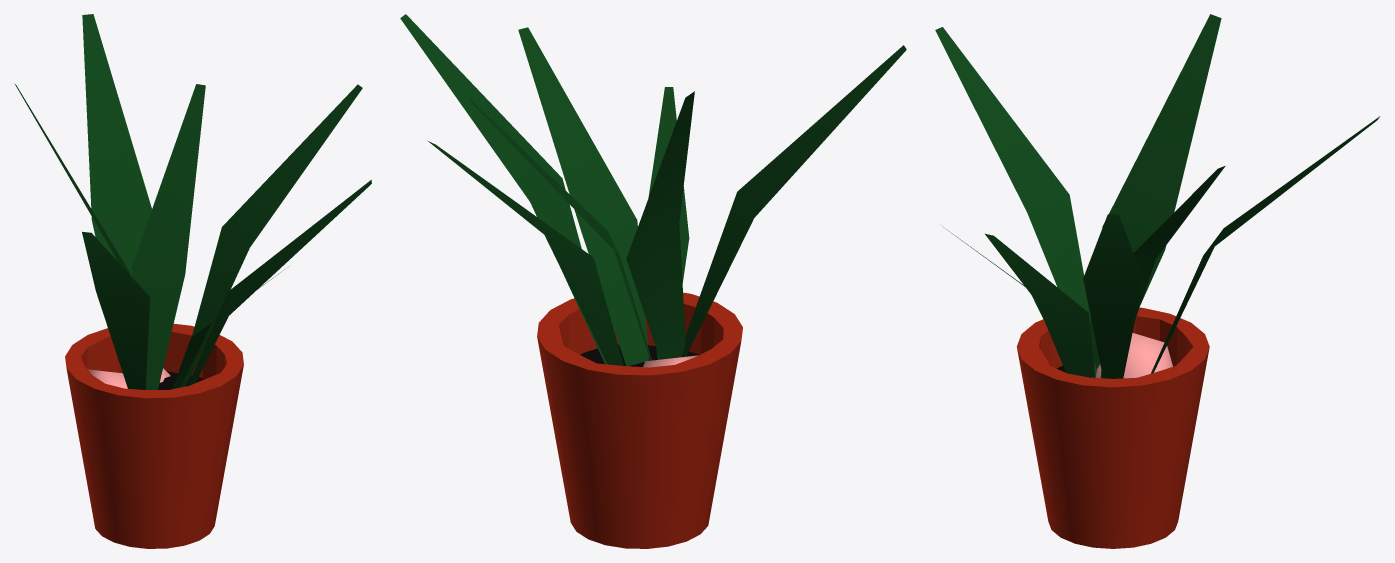
File: WideLeaf_Plant_RA.obj
3 views of the same model, side by side, from view 1: azimuth 30°, elevation 25°; view 2: azimuth 150°, elevation 25°; view 3: azimuth 270°, elevation 25° (orthographic). The views are drawn at different scales.
Visible parts, largest first — view 1: WideLeaf_Plant_RA:pCylinder1 polySurface19, WideLeaf_Plant_RA:group5 WideLeaf_Plant_RA:pasted__group1 WideLe, WideLeaf_Plant_RA:group WideLeaf_Plant_RA:pasted__pPlane1 polySu, WideLeaf_Plant_RA:pPlane1 polySurface19, WideLeaf_Plant_RA:group1 WideLeaf_Plant_RA:pasted__pPlane1 polyS, WideLeaf_Plant_RA:group3 WideLeaf_Plant_RA:pasted__pPlane1 polyS, WideLeaf_Plant_RA:group2 WideLeaf_Plant_RA:pasted__pPlane1 polyS, WideLeaf_Plant_RA:group4 WideLeaf_Plant_RA:pasted__group WideLea, WideLeaf_Plant_RA:initialShadingGroup WideLeaf_Plant_RA:pCube2 p; view 2: WideLeaf_Plant_RA:pCylinder1 polySurface19, WideLeaf_Plant_RA:group3 WideLeaf_Plant_RA:pasted__pPlane1 polyS, WideLeaf_Plant_RA:group4 WideLeaf_Plant_RA:pasted__group WideLea, WideLeaf_Plant_RA:group1 WideLeaf_Plant_RA:pasted__pPlane1 polyS, WideLeaf_Plant_RA:pPlane1 polySurface19, WideLeaf_Plant_RA:group WideLeaf_Plant_RA:pasted__pPlane1 polySu, WideLeaf_Plant_RA:group2 WideLeaf_Plant_RA:pasted__pPlane1 polyS, WideLeaf_Plant_RA:group5 WideLeaf_Plant_RA:pasted__group1 WideLe; view 3: WideLeaf_Plant_RA:pCylinder1 polySurface19, WideLeaf_Plant_RA:group4 WideLeaf_Plant_RA:pasted__group WideLea, WideLeaf_Plant_RA:group1 WideLeaf_Plant_RA:pasted__pPlane1 polyS, WideLeaf_Plant_RA:pPlane1 polySurface19, WideLeaf_Plant_RA:group3 WideLeaf_Plant_RA:pasted__pPlane1 polyS, WideLeaf_Plant_RA:group5 WideLeaf_Plant_RA:pasted__group1 WideLe, WideLeaf_Plant_RA:group WideLeaf_Plant_RA:pasted__pPlane1 polySu, WideLeaf_Plant_RA:initialShadingGroup WideLeaf_Plant_RA:pCube2 p.
Boxes of the visible parts, x1,y1,x2,y2 form: WideLeaf_Plant_RA:pCylinder1 polySurface19: (65,323,243,548); WideLeaf_Plant_RA:group5 WideLeaf_Plant_RA:pasted__group1 WideLe: (132,84,205,389); WideLeaf_Plant_RA:group WideLeaf_Plant_RA:pasted__pPlane1 polySu: (82,14,151,276); WideLeaf_Plant_RA:pPlane1 polySurface19: (180,84,362,387); WideLeaf_Plant_RA:group1 WideLeaf_Plant_RA:pasted__pPlane1 polyS: (82,231,150,389); WideLeaf_Plant_RA:group3 WideLeaf_Plant_RA:pasted__pPlane1 polyS: (188,180,371,385); WideLeaf_Plant_RA:group2 WideLeaf_Plant_RA:pasted__pPlane1 polyS: (172,269,284,388); WideLeaf_Plant_RA:group4 WideLeaf_Plant_RA:pasted__group WideLea: (14,83,130,275); WideLeaf_Plant_RA:initialShadingGroup WideLeaf_Plant_RA:pCube2 p: (88,369,127,388); WideLeaf_Plant_RA:pCylinder1 polySurface19: (537,292,742,548); WideLeaf_Plant_RA:group3 WideLeaf_Plant_RA:pasted__pPlane1 polyS: (518,27,649,366); WideLeaf_Plant_RA:group4 WideLeaf_Plant_RA:pasted__group WideLea: (626,91,694,359); WideLeaf_Plant_RA:group1 WideLeaf_Plant_RA:pasted__pPlane1 polyS: (681,45,906,357); WideLeaf_Plant_RA:pPlane1 polySurface19: (400,14,606,364); WideLeaf_Plant_RA:group WideLeaf_Plant_RA:pasted__pPlane1 polySu: (428,141,623,365); WideLeaf_Plant_RA:group2 WideLeaf_Plant_RA:pasted__pPlane1 polyS: (648,87,689,359); WideLeaf_Plant_RA:group5 WideLeaf_Plant_RA:pasted__group1 WideLe: (469,98,652,360); WideLeaf_Plant_RA:pCylinder1 polySurface19: (1016,307,1209,548); WideLeaf_Plant_RA:group4 WideLeaf_Plant_RA:pasted__group WideLea: (1090,14,1221,368); WideLeaf_Plant_RA:group1 WideLeaf_Plant_RA:pasted__pPlane1 polyS: (935,27,1096,377); WideLeaf_Plant_RA:pPlane1 polySurface19: (1083,214,1143,378); WideLeaf_Plant_RA:group3 WideLeaf_Plant_RA:pasted__pPlane1 polyS: (985,233,1095,377); WideLeaf_Plant_RA:group5 WideLeaf_Plant_RA:pasted__group1 WideLe: (1100,166,1225,378); WideLeaf_Plant_RA:group WideLeaf_Plant_RA:pasted__pPlane1 polySu: (1151,116,1380,373); WideLeaf_Plant_RA:initialShadingGroup WideLeaf_Plant_RA:pCube2 p: (1095,333,1172,378).
Size of the model in its own units: 4.6 by 5.25 by 4.62.
